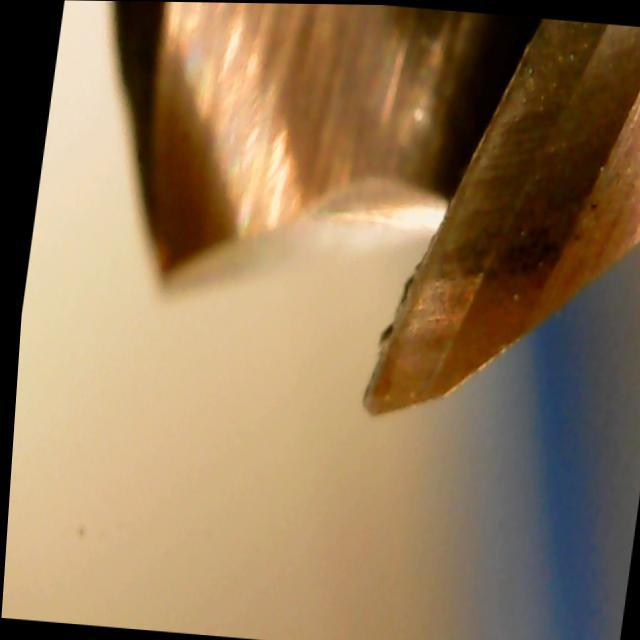Tool-wear-class-1: (329, 197, 542, 432)
